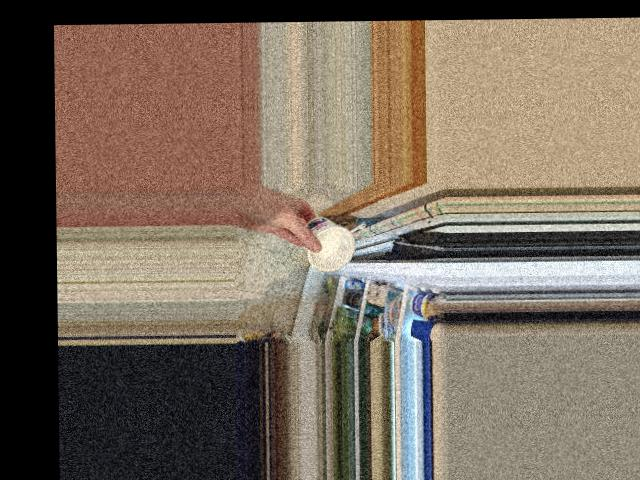cotage: (300, 213, 360, 272)
